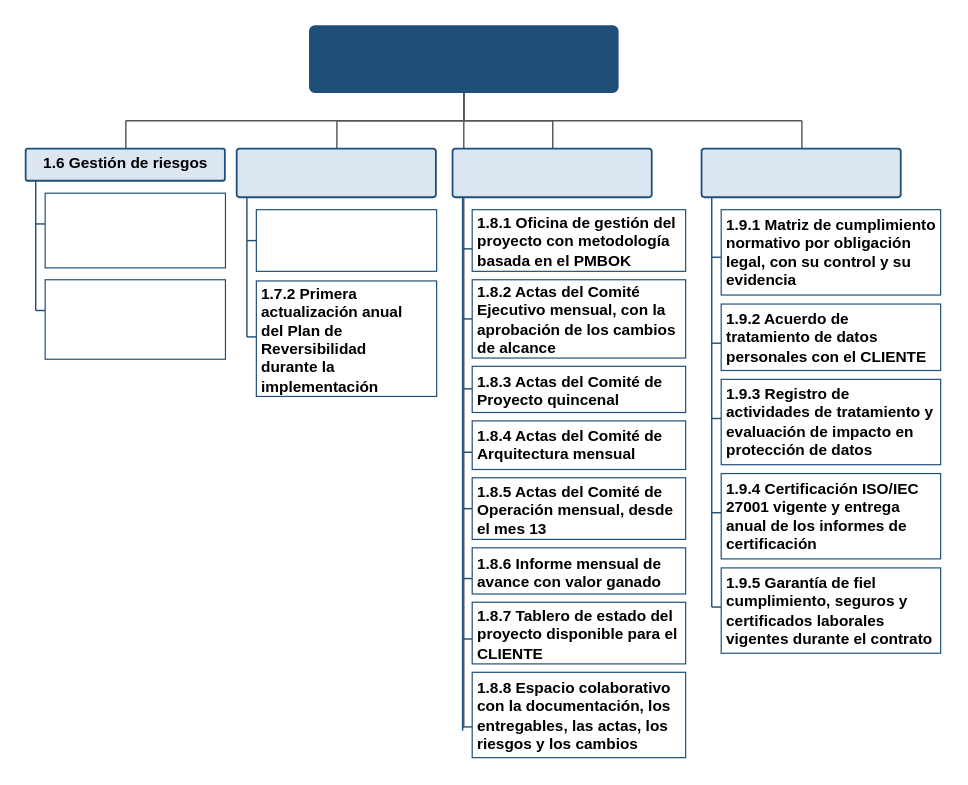
Some shapes in this 968 by 785 pixel diagram are drawn without their labels. The shapes that lost their labels are listed below. From the top down, each one's box as (x1, y1, x2, y2) in pixels, then its label:
(308, 25, 618, 92): 1. Inicio
(235, 147, 436, 197): 1.7 Plan de Reversibilidad
(451, 147, 652, 197): 1.8 Gobierno y control del proyecto
(700, 147, 901, 197): 1.9 Cumplimiento normativo y contractual
(44, 192, 225, 268): 1.6.1 Plan de riesgos y registro inicial de riesgos según ISO 31000
(255, 208, 436, 271): 1.7.1 Plan de Reversibilidad inicial (primeros 90 días)
(44, 278, 225, 359): 1.6.2 Registro de riesgos revisado en cada Comité de Proyecto
